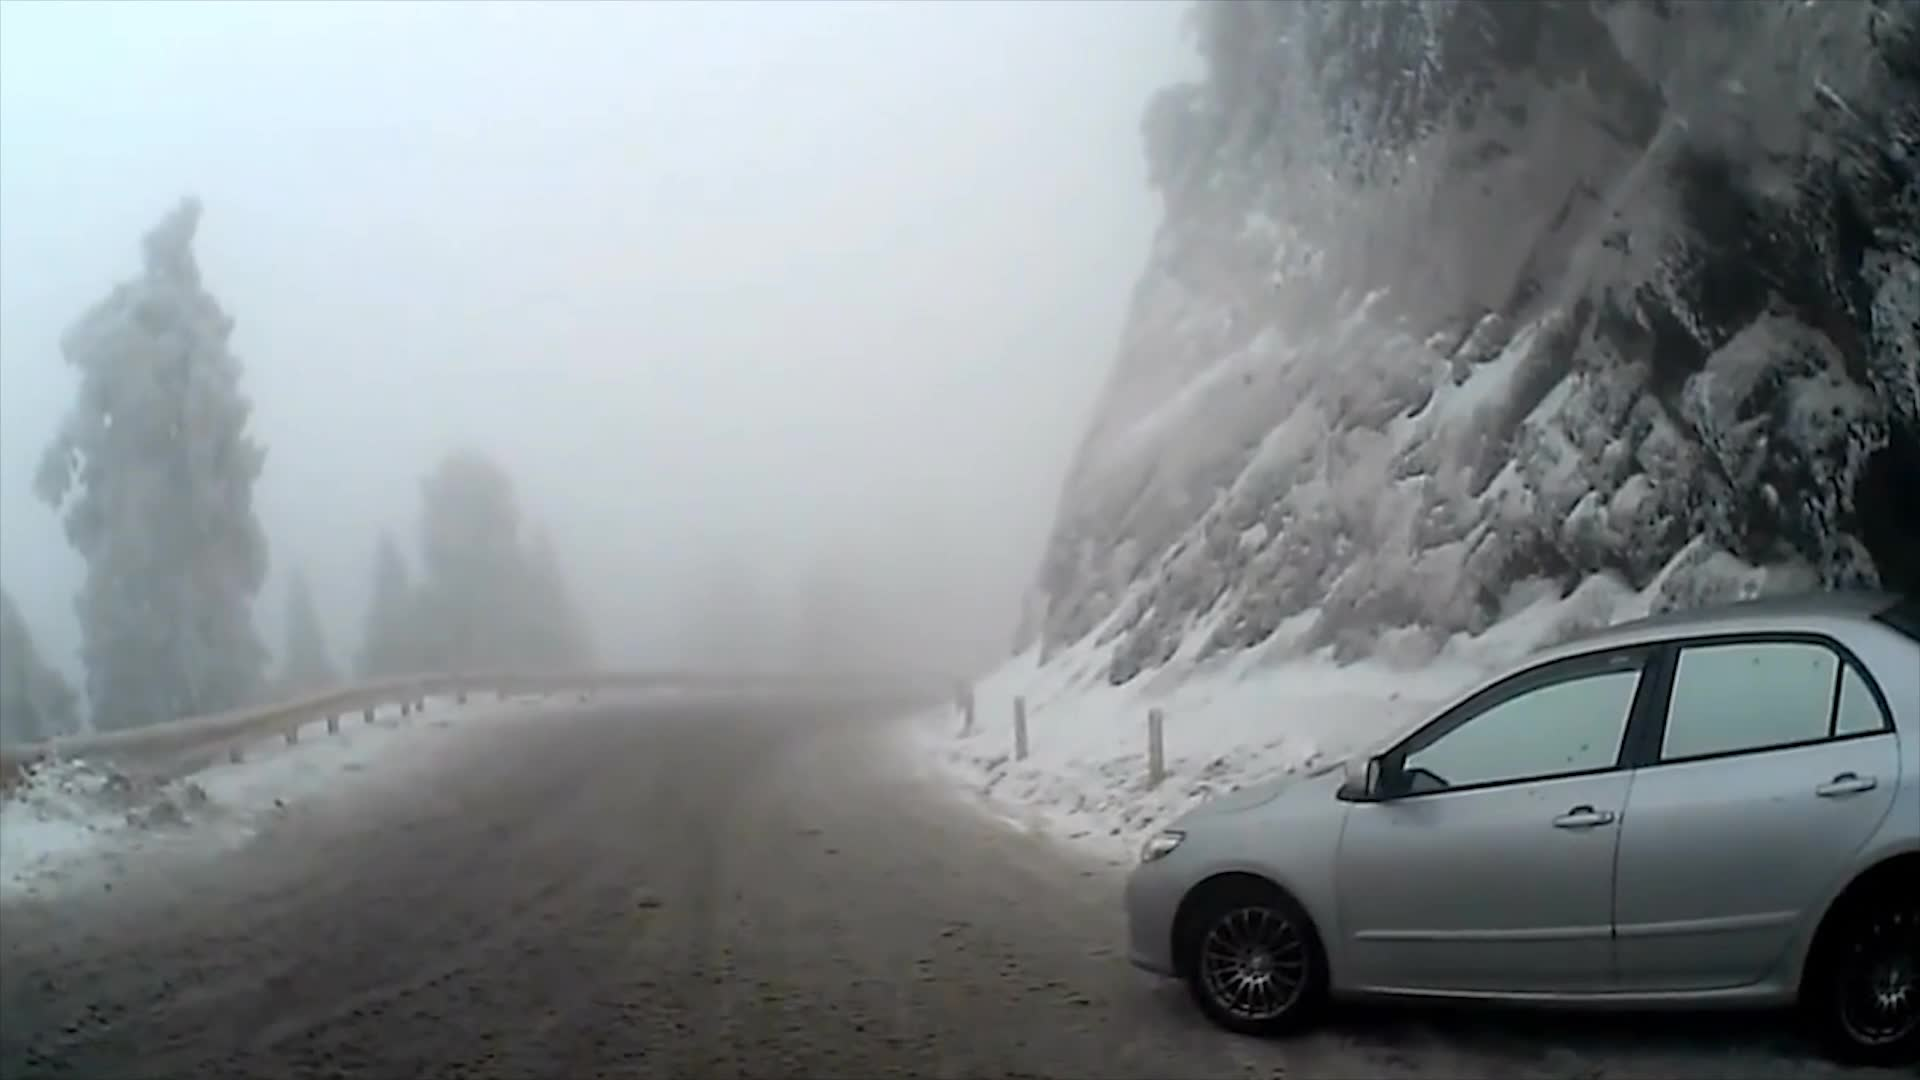vehicle: (1117, 585, 1920, 1072)
